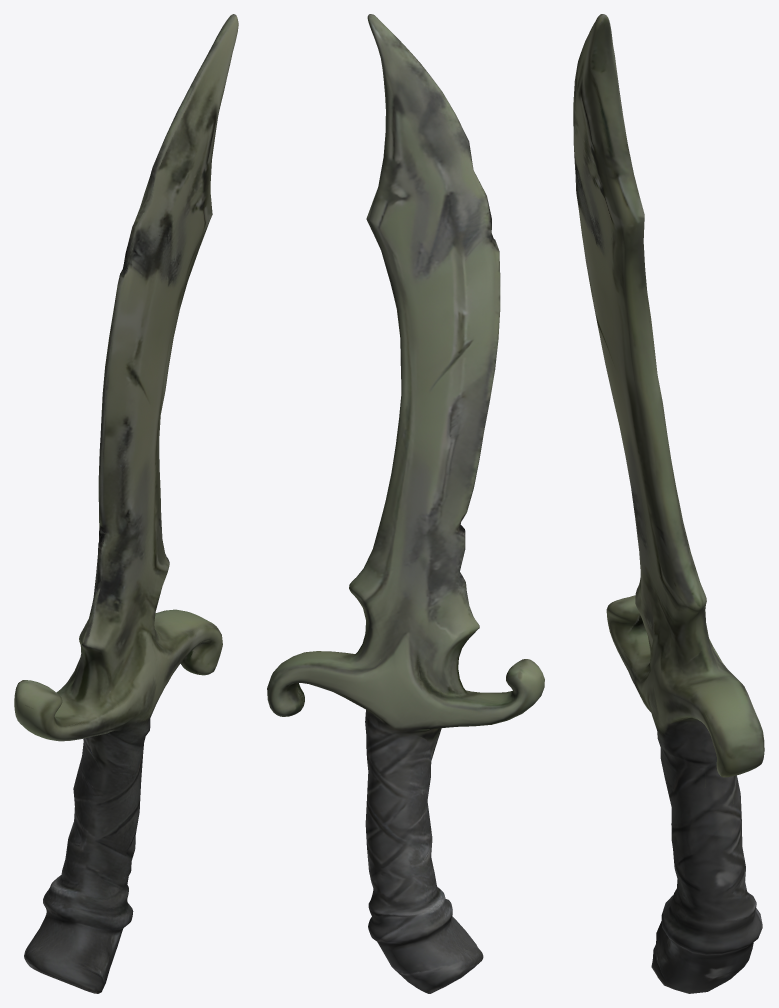
File: viridium_scim.glb
The picture shows the model from 3 angles, left to right: view 1: azimuth 30°, elevation 25°; view 2: azimuth 150°, elevation 25°; view 3: azimuth 270°, elevation 25°; orthographic projection. The views are drawn at different scales.
Parts seen in each view (by area): view 1: viridium_scim_mesh; view 2: viridium_scim_mesh; view 3: viridium_scim_mesh.
Part boxes in pixels (x1,y1,x2,y2): viridium_scim_mesh: (14,14,238,993); viridium_scim_mesh: (267,14,544,993); viridium_scim_mesh: (573,14,764,993).
Size of the model in its own units: 0.593 by 2.27 by 0.381.
1 material, 1 textured.
